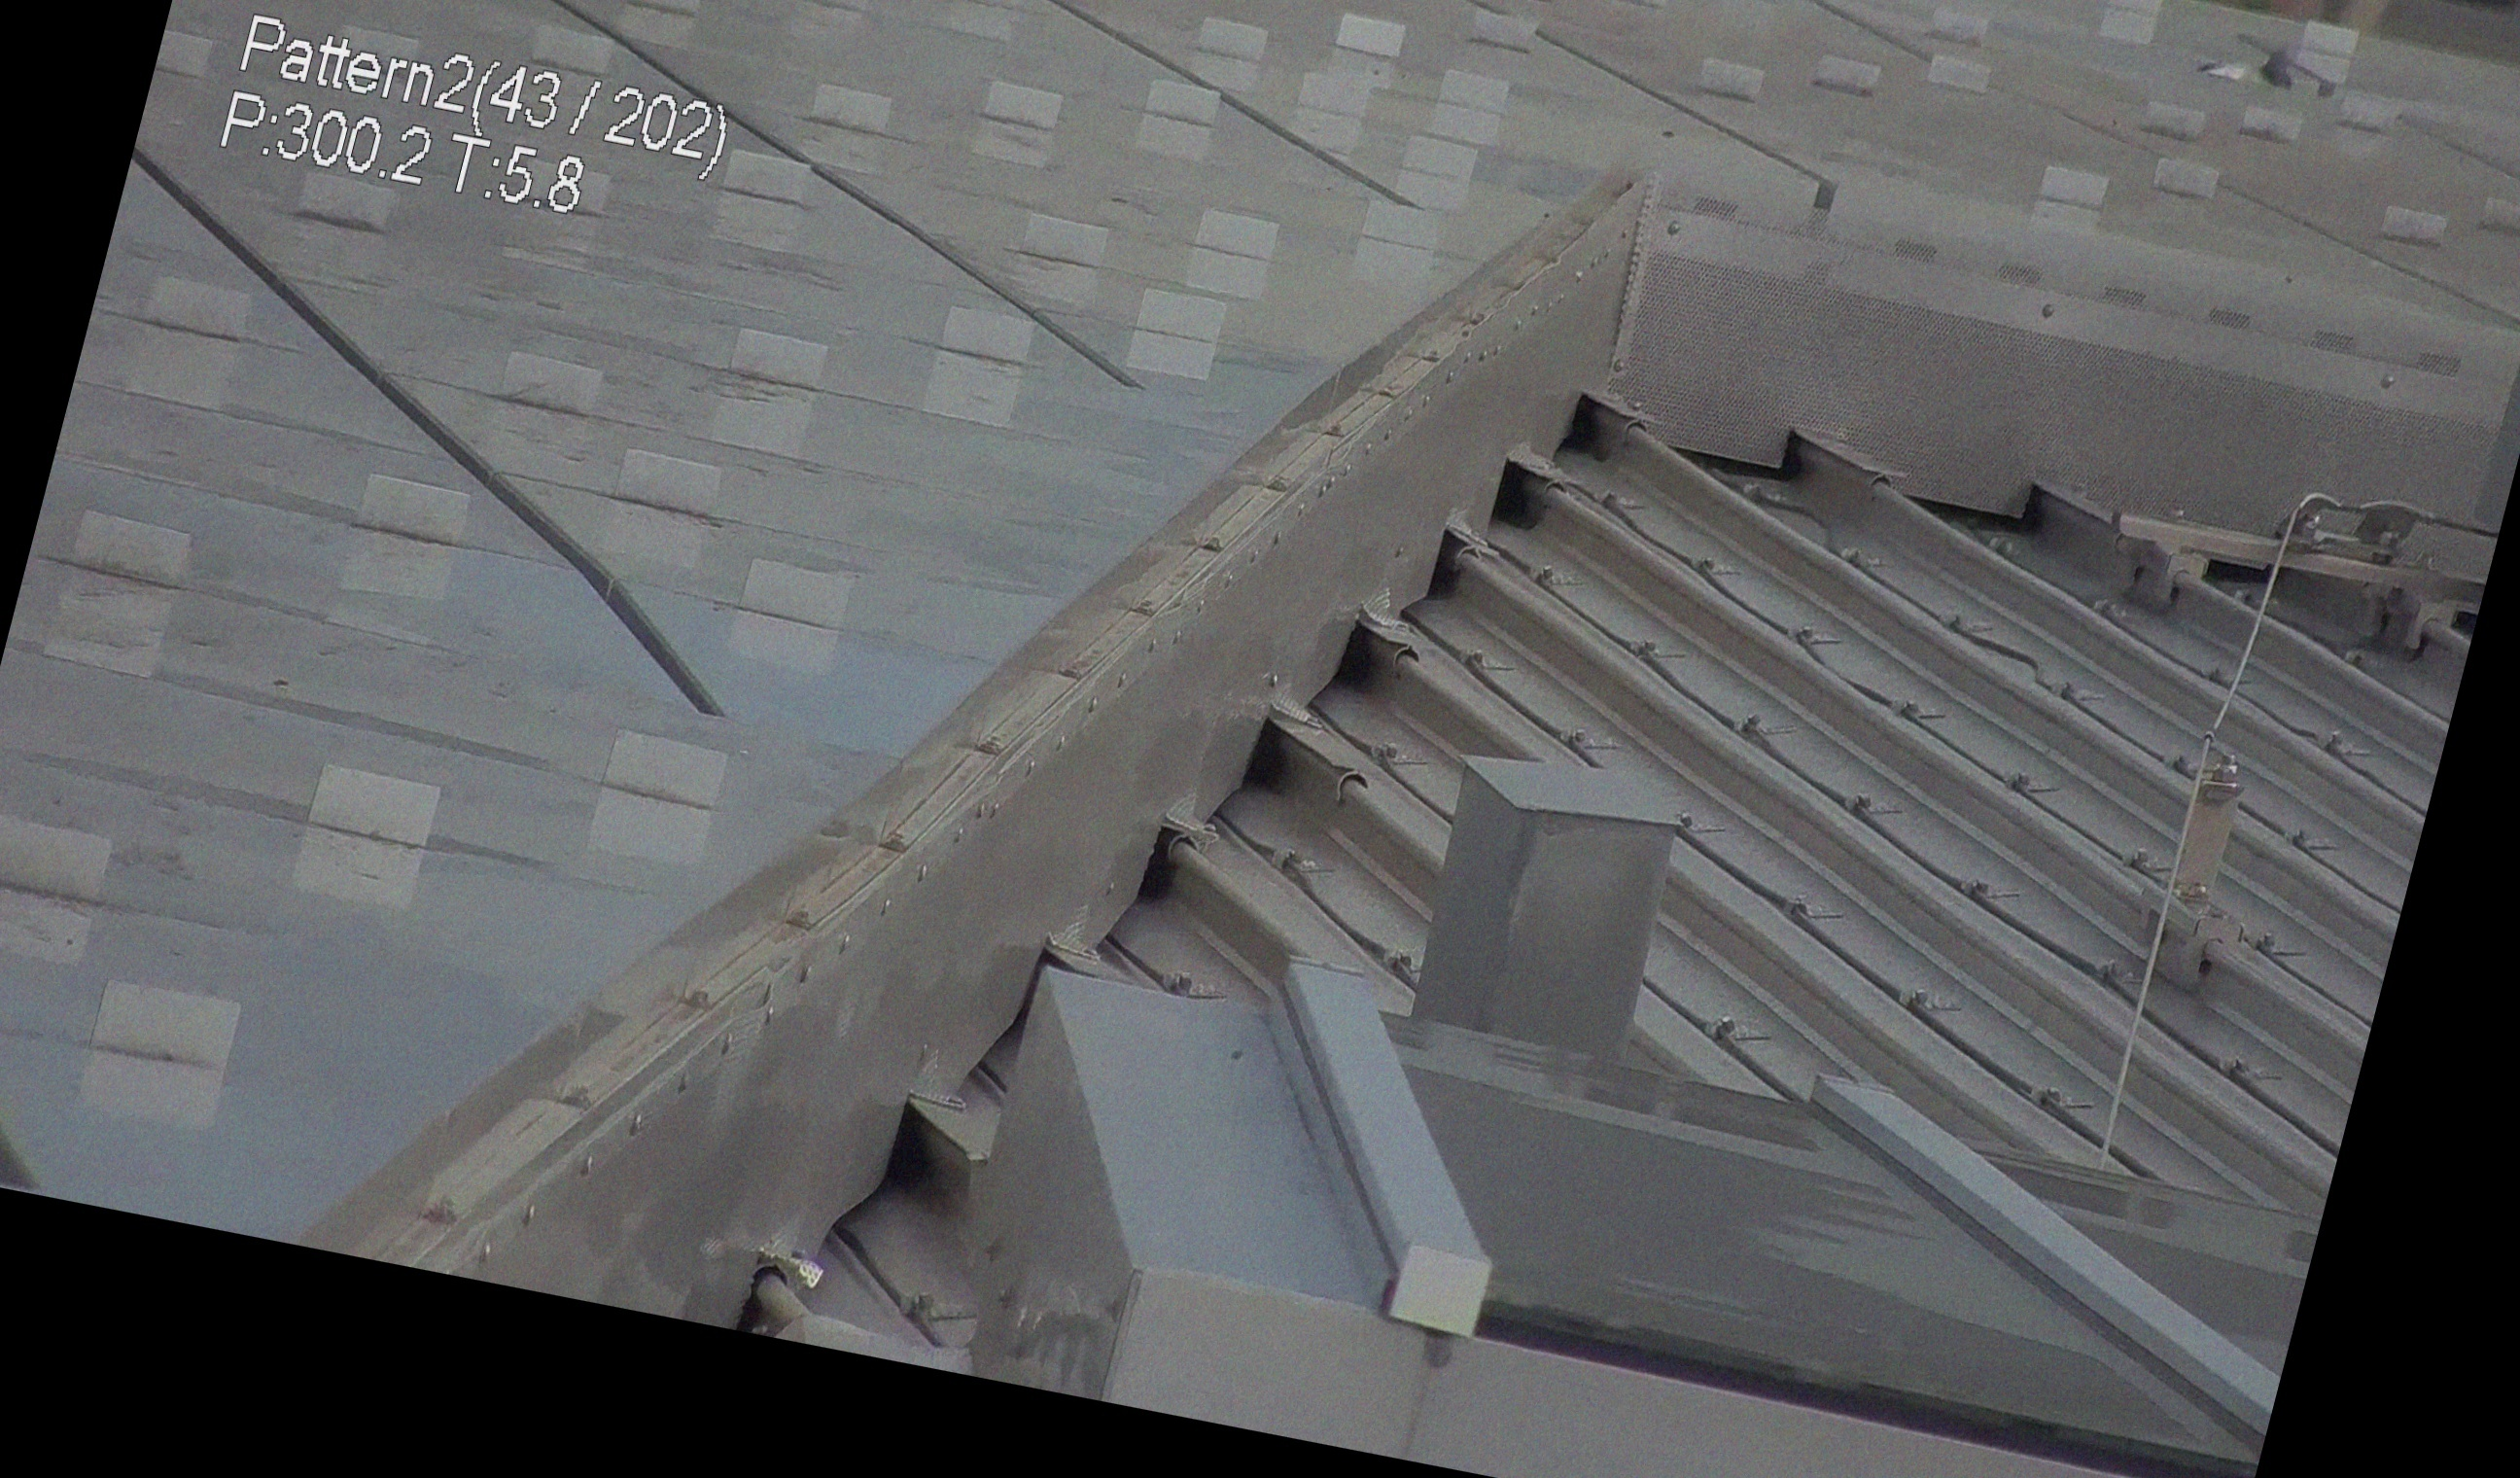Other: (651, 1216, 844, 1453)
